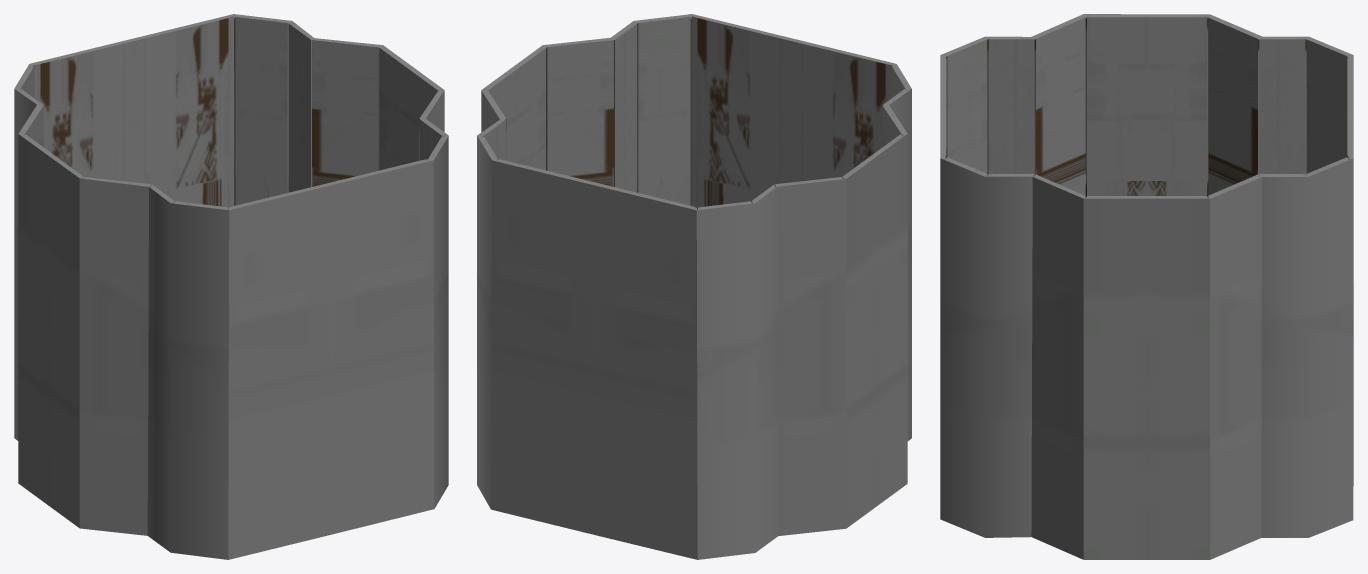
The model's file is SM_Mod05Wall01.gltf.
The picture shows the model from 3 angles, left to right: view 1: azimuth 30°, elevation 25°; view 2: azimuth 150°, elevation 25°; view 3: azimuth 270°, elevation 25°; orthographic projection. The views are drawn at different scales.
Visible parts, largest first — view 1: SM_Mod05Wall01; view 2: SM_Mod05Wall01; view 3: SM_Mod05Wall01.
Part boxes in pixels (box(x1,y1,x2,y2)): SM_Mod05Wall01: box(14, 14, 448, 559); SM_Mod05Wall01: box(477, 14, 911, 559); SM_Mod05Wall01: box(940, 14, 1353, 559).
Size of the model in its own units: 5.39 by 4.95 by 5.12.
Materials: 1 (1 with a texture image).
